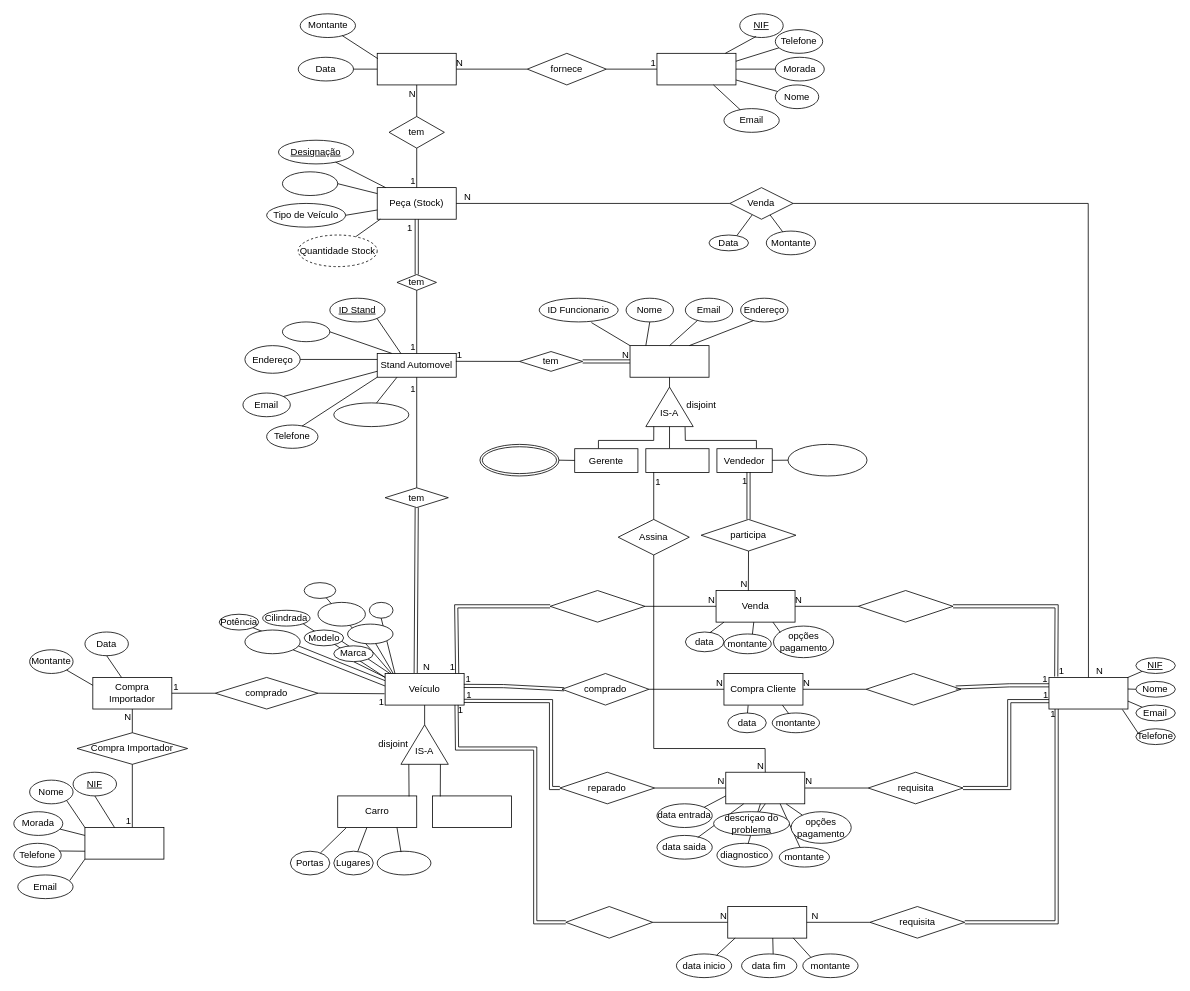
The diagram is 1190 pixels wide and 991 high, and some of its shapes have lost their labels. Here are the shapes that lost their labels. From the top down, the centre of each, then its label:
At pixel 416 69: "Encomenda".
At pixel 696 69: "Fornecedor Peças".
At pixel 310 183: "Categoria".
At pixel 306 331: "País".
At pixel 669 361: "Funcionário".
At pixel 371 414: "Codigo Postal".
At pixel 519 460: "Certificações".
At pixel 677 460: "Mecânico".
At pixel 827 460: "Numero de Vendas".
At pixel 319 590: "Kms".
At pixel 381 610: "Ano".
At pixel 597 606: "vendido".
At pixel 905 606: "compra".
At pixel 341 614: "Condição".
At pixel 370 633: "Matricula".
At pixel 272 641: "Combustível".
At pixel 913 689: "vende".
At pixel 1088 693: "Cliente".
At pixel 765 787: "Reparacao".
At pixel 472 811: "Motas".
At pixel 124 843: "Importador".
At pixel 403 862: "Tipo de Caixa".
At pixel 609 922: "alugado".
At pixel 767 922: "Aluguer".
